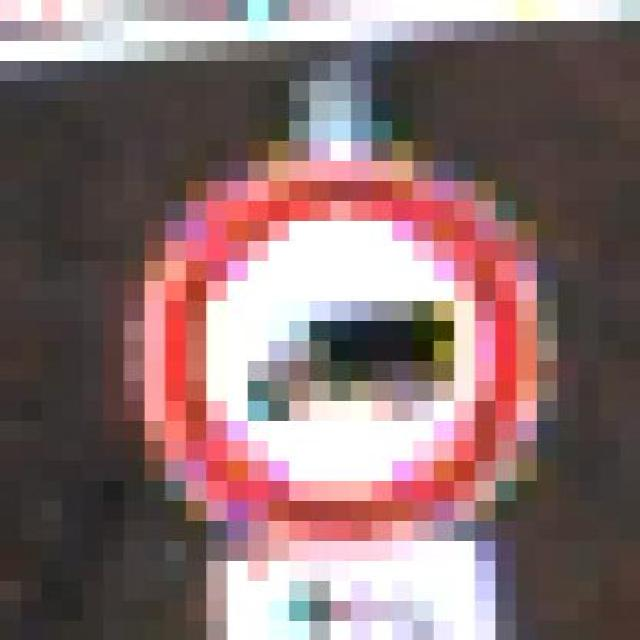Truck traffic is prohibited: (92, 120, 568, 540)
